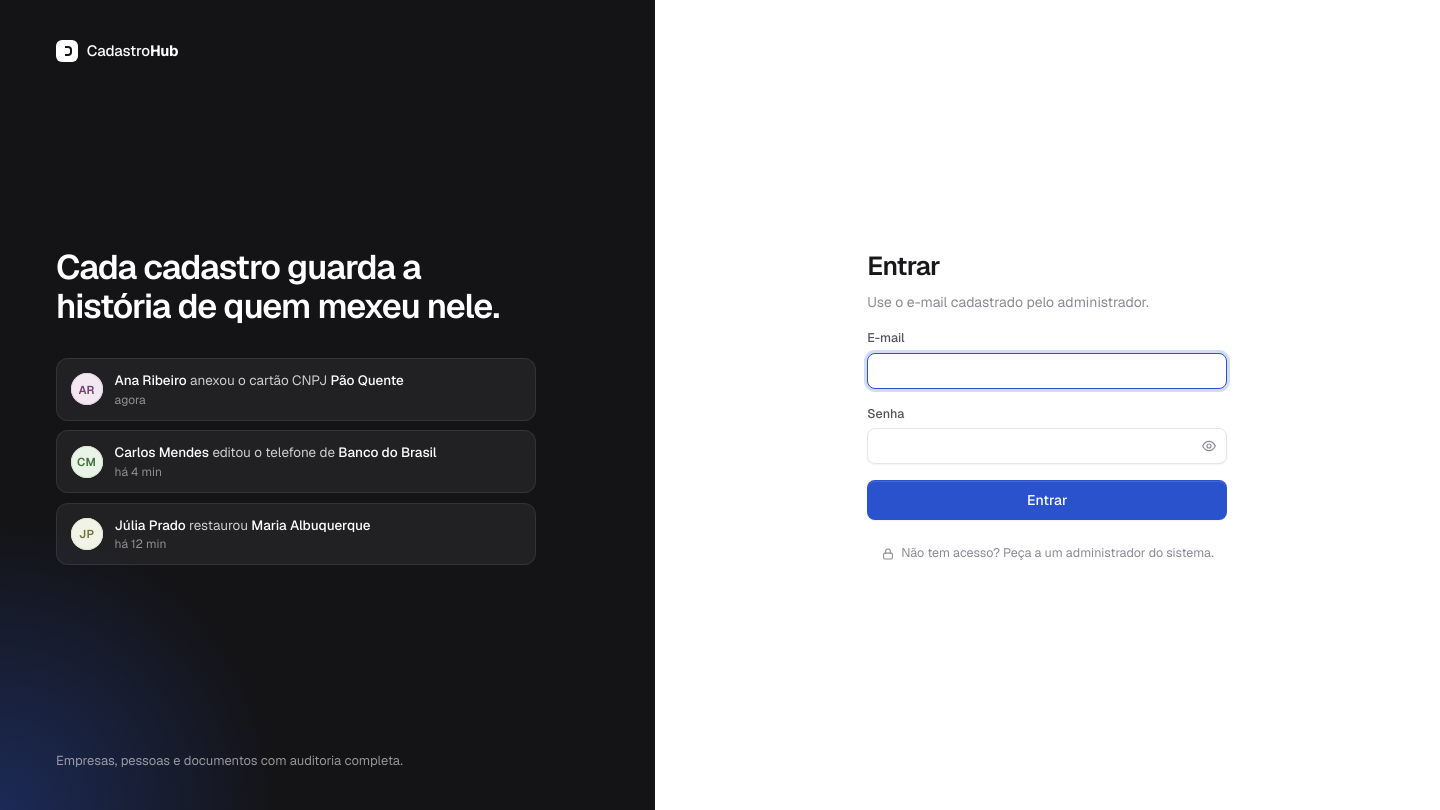
Test case: endereço inexistente mostra "Página não encontrada"
In the field labelled "E-mail": (1047, 371) x1=867 y1=353 x2=1227 y2=389, type "ana@empresa.com"
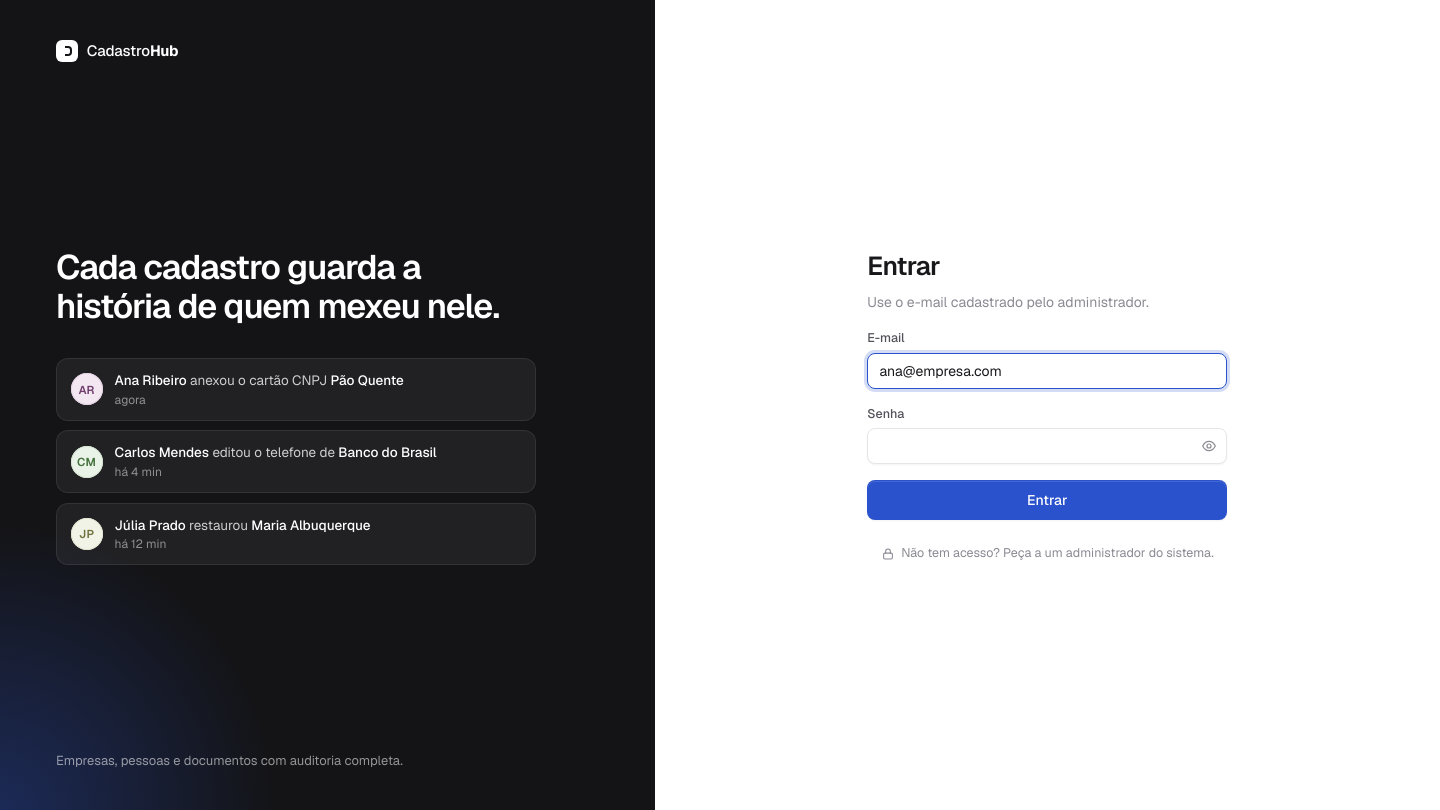
In the password field labelled "Senha": (1047, 446) x1=867 y1=428 x2=1227 y2=464, type "Senha123"
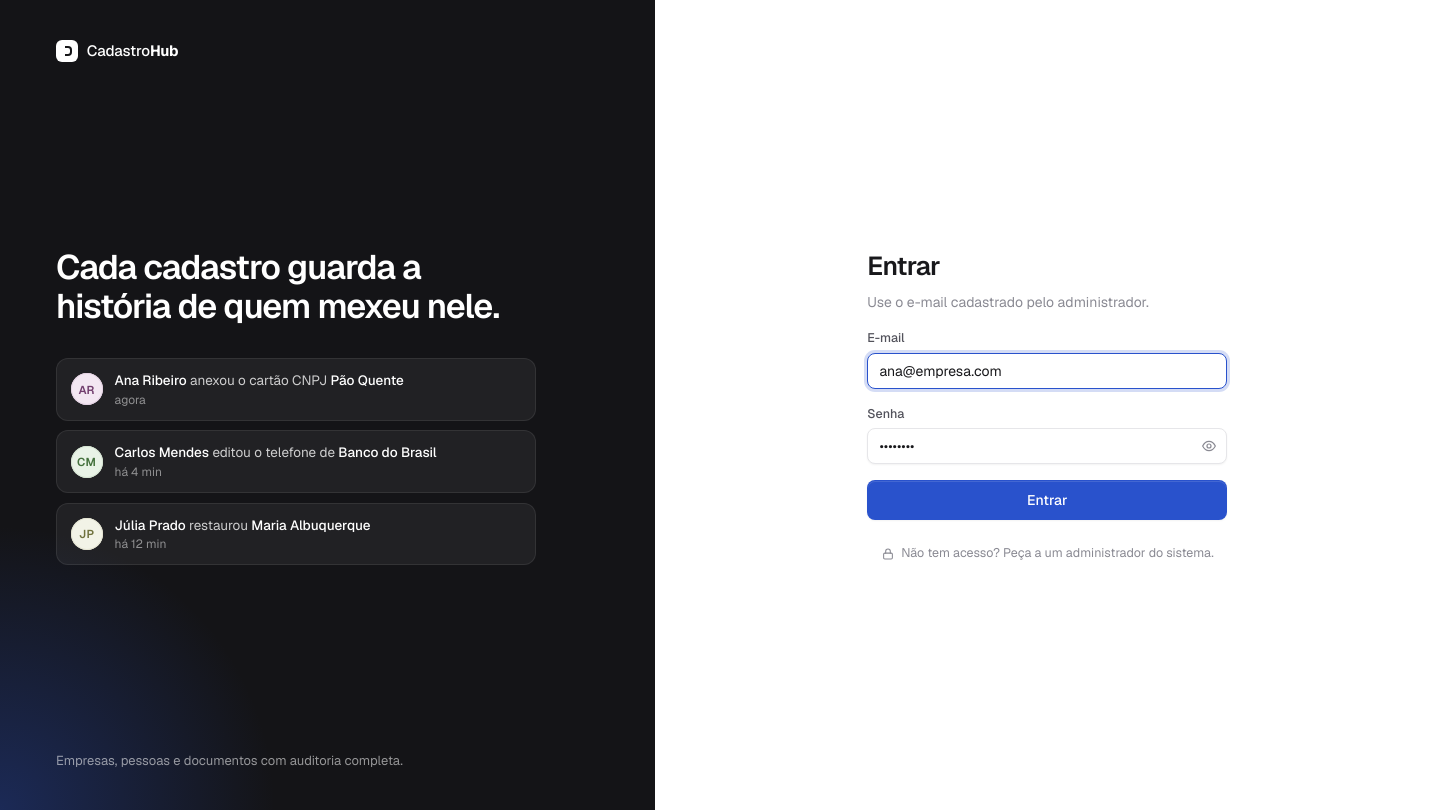
Click the button "Entrar": (1047, 500) x1=867 y1=480 x2=1227 y2=520
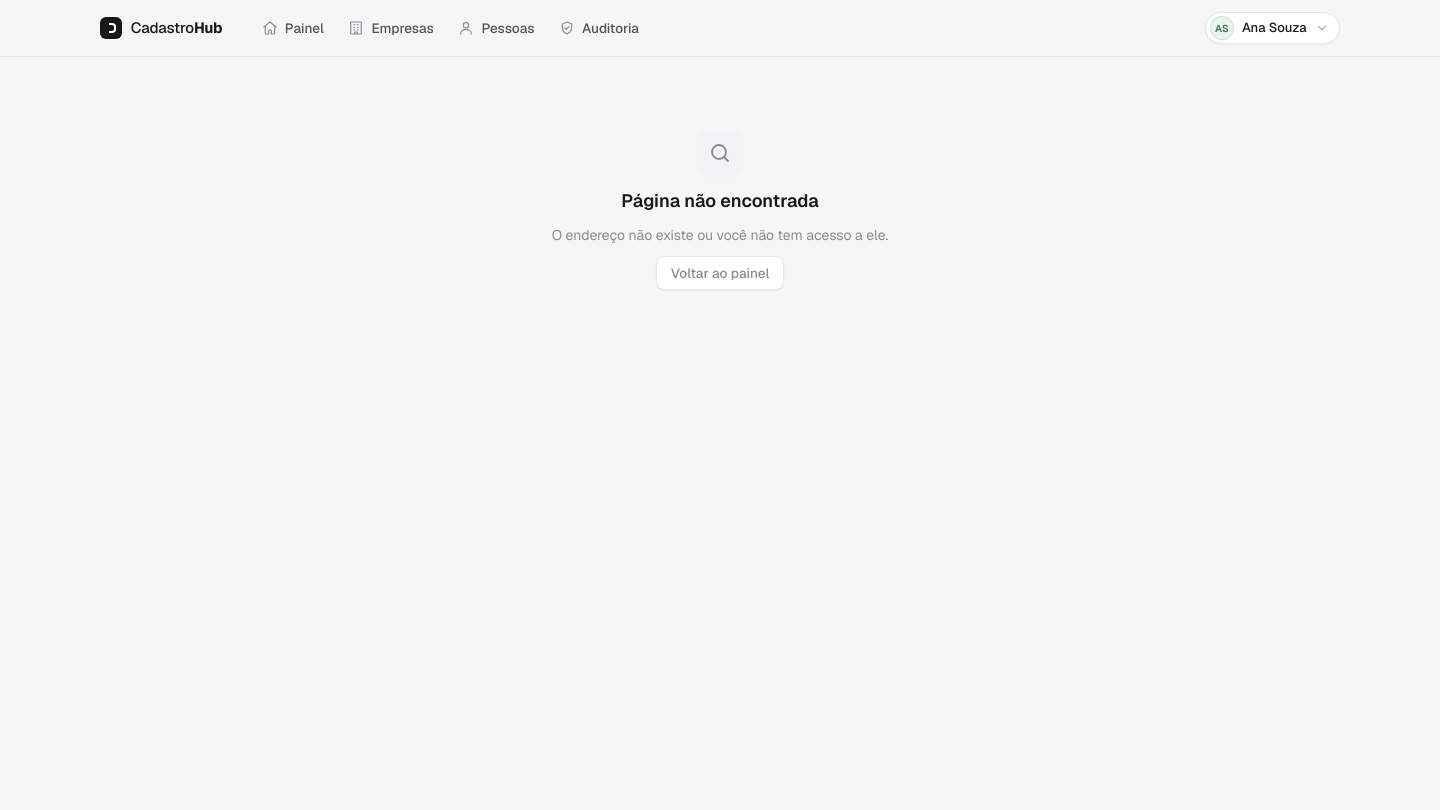
Check: the heading "Página não encontrada" is shown, box x1=621 y1=187 x2=819 y2=214
